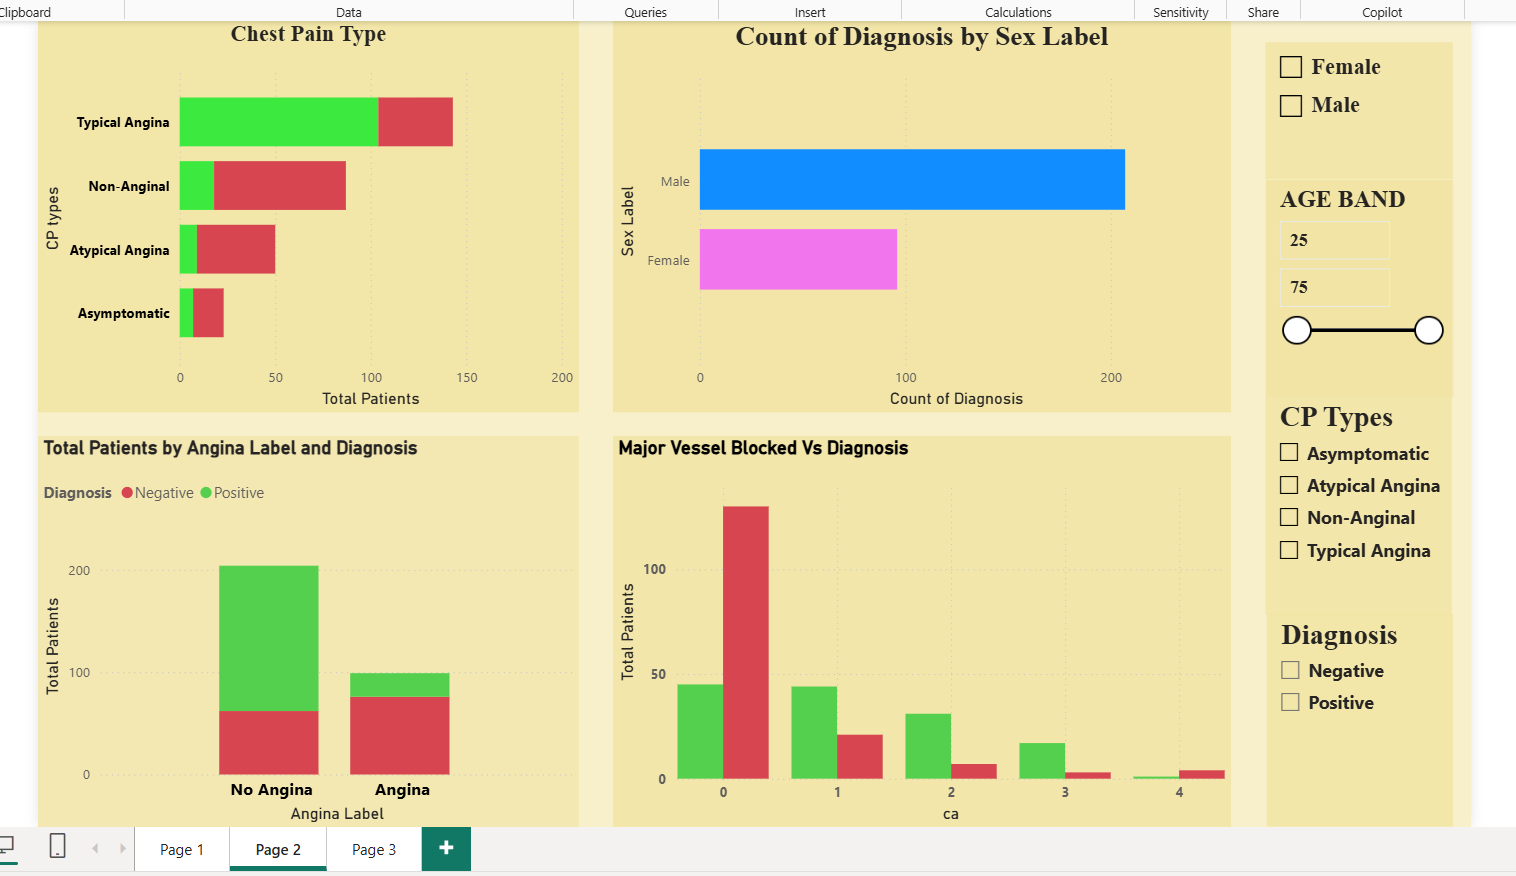

What the dashboard file says about the page in this screenshot:
{"tool":"powerbi","page":{"name":"Page 2","canvas":[1280,720],"ordinal":1},"visuals":[{"type":"barChart","title":"Chest Pain Type ","fields":{"Category":["Heart Attack Data Set.CP Label"],"Series":["Heart Attack Data Set.Diagonis"],"Y":["Heart Attack Data Set.Total Patients"]},"box":[0,0,483,349.9],"z":0},{"type":"columnChart","fields":{"Category":["Heart Attack Data Set.Angina Label"],"Y":["Heart Attack Data Set.Total Patients"],"Series":["Heart Attack Data Set.Diagnosis"]},"box":[0,370.5,483,349.9],"z":1000},{"type":"clusteredColumnChart","title":"Major Vessel Blocked Vs Diagnosis","fields":{"Category":["Heart Attack Data Set.ca"],"Y":["Heart Attack Data Set.Total Patients"],"Series":["Heart Attack Data Set.Diagnosis"]},"box":[513.2,370.5,551.6,349.9],"z":2000},{"type":"slicer","fields":{"Values":["Heart Attack Data Set.Sex Label"]},"box":[1096.4,19.2,167.4,122.1],"z":3000},{"type":"slicer","fields":{"Values":["Heart Attack Data Set.AGE BAND"]},"box":[1096.4,141.3,167.4,193.5],"z":4000},{"type":"slicer","fields":{"Values":["Heart Attack Data Set.CP types"]},"box":[1096.4,334.8,166,194.9],"z":5000},{"type":"slicer","fields":{"Values":["Heart Attack Data Set.Diagnosis"]},"box":[1097.8,529.7,166,190.7],"z":6000},{"type":"clusteredBarChart","fields":{"Category":["Heart Attack Data Set.Sex Label"],"Y":["CountNonNull(Heart Attack Data Set.Diagnosis)"]},"box":[513.2,0,551.6,349.9],"z":7000}]}

Visuals, with their boxes on the page's 1280x720 design canvas (x1, y1, x2, y2). These are canvas units, not pixel positions in the 1516x876 screenshot, which may show the page scaled, cropped or inside an application window:
"Chest Pain Type " barChart: x1=0 y1=0 x2=483 y2=350
columnChart - Heart Attack Data Set.Angina Label x Heart Attack Data Set.Total Patients: x1=0 y1=370 x2=483 y2=720
"Major Vessel Blocked Vs Diagnosis" clusteredColumnChart: x1=513 y1=370 x2=1065 y2=720
slicer - Heart Attack Data Set.Sex Label: x1=1096 y1=19 x2=1264 y2=141
slicer - Heart Attack Data Set.AGE BAND: x1=1096 y1=141 x2=1264 y2=335
slicer - Heart Attack Data Set.CP types: x1=1096 y1=335 x2=1262 y2=530
slicer - Heart Attack Data Set.Diagnosis: x1=1098 y1=530 x2=1264 y2=720
clusteredBarChart - Heart Attack Data Set.Sex Label x CountNonNull(Heart Attack Data Set.Diagnosis): x1=513 y1=0 x2=1065 y2=350
